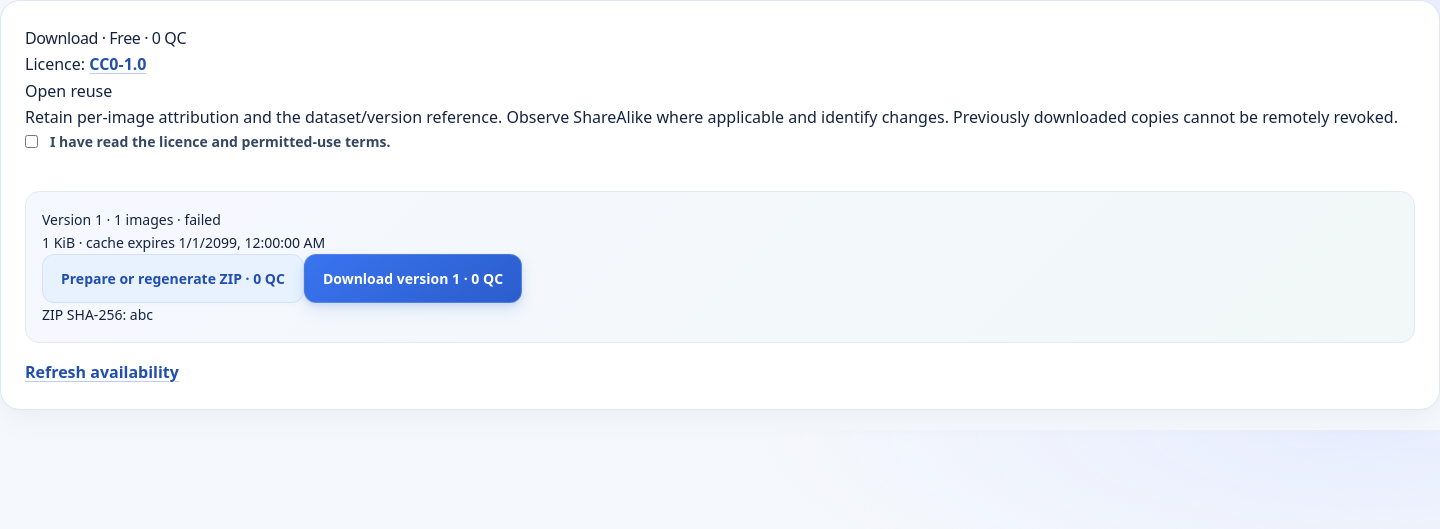
Test: prepares an expired or missing ZIP without a credit request
The width and height of the screenshot is (1440, 529).
Click the checkbox at (32, 141), box 25,135 -> 38,148
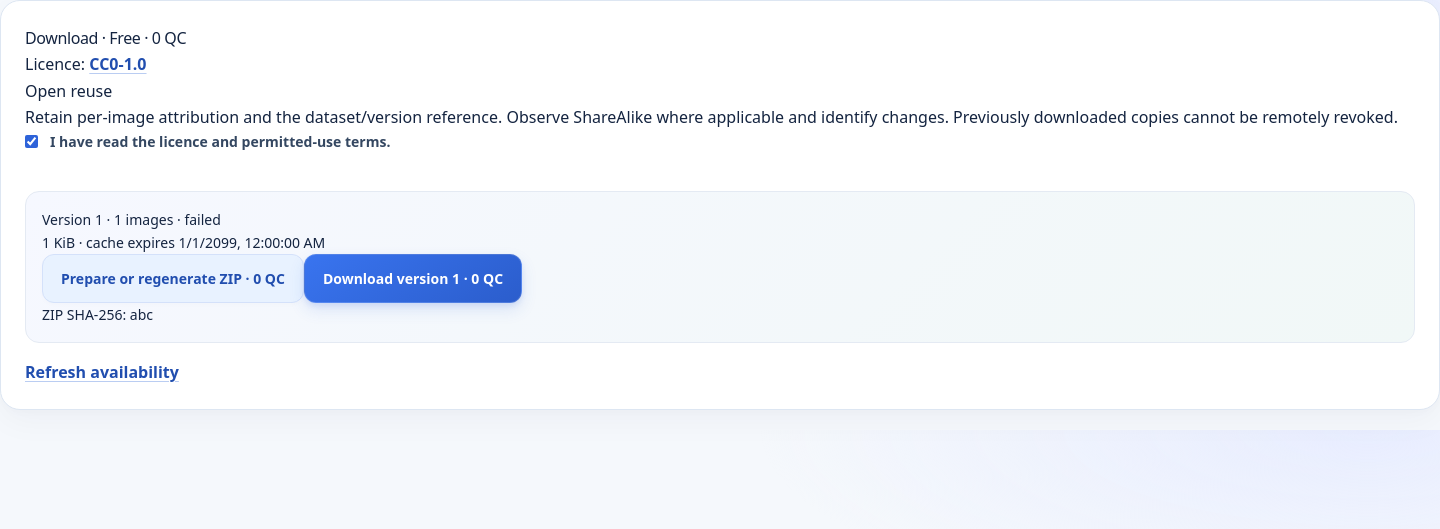
Click the button "Prepare or regenerate ZIP · 0 QC" at (173, 278), box 42,254 -> 304,303
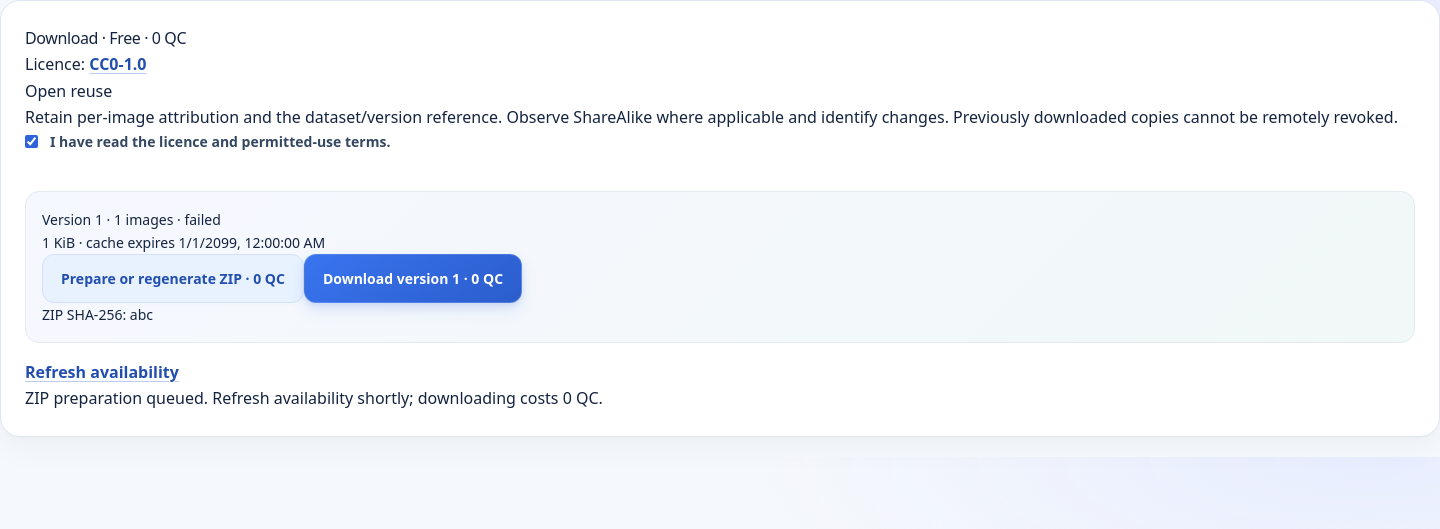
Expected: the message shows "queued", 25,387 -> 603,409
